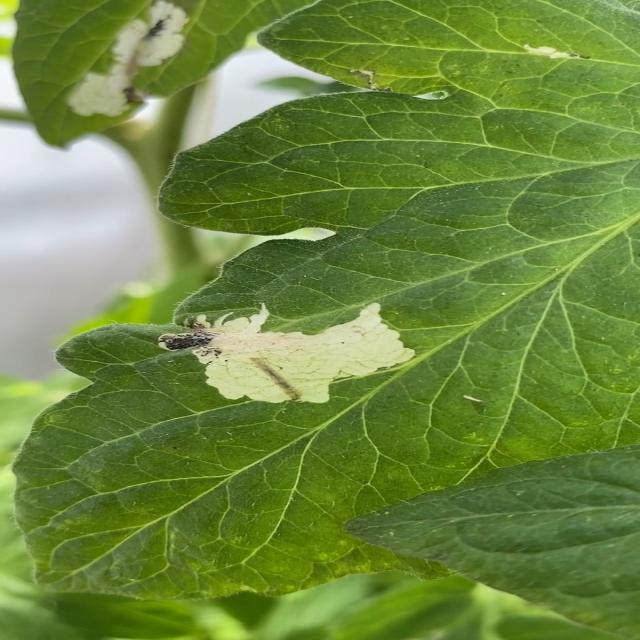Larvae: (249, 358, 300, 401)
